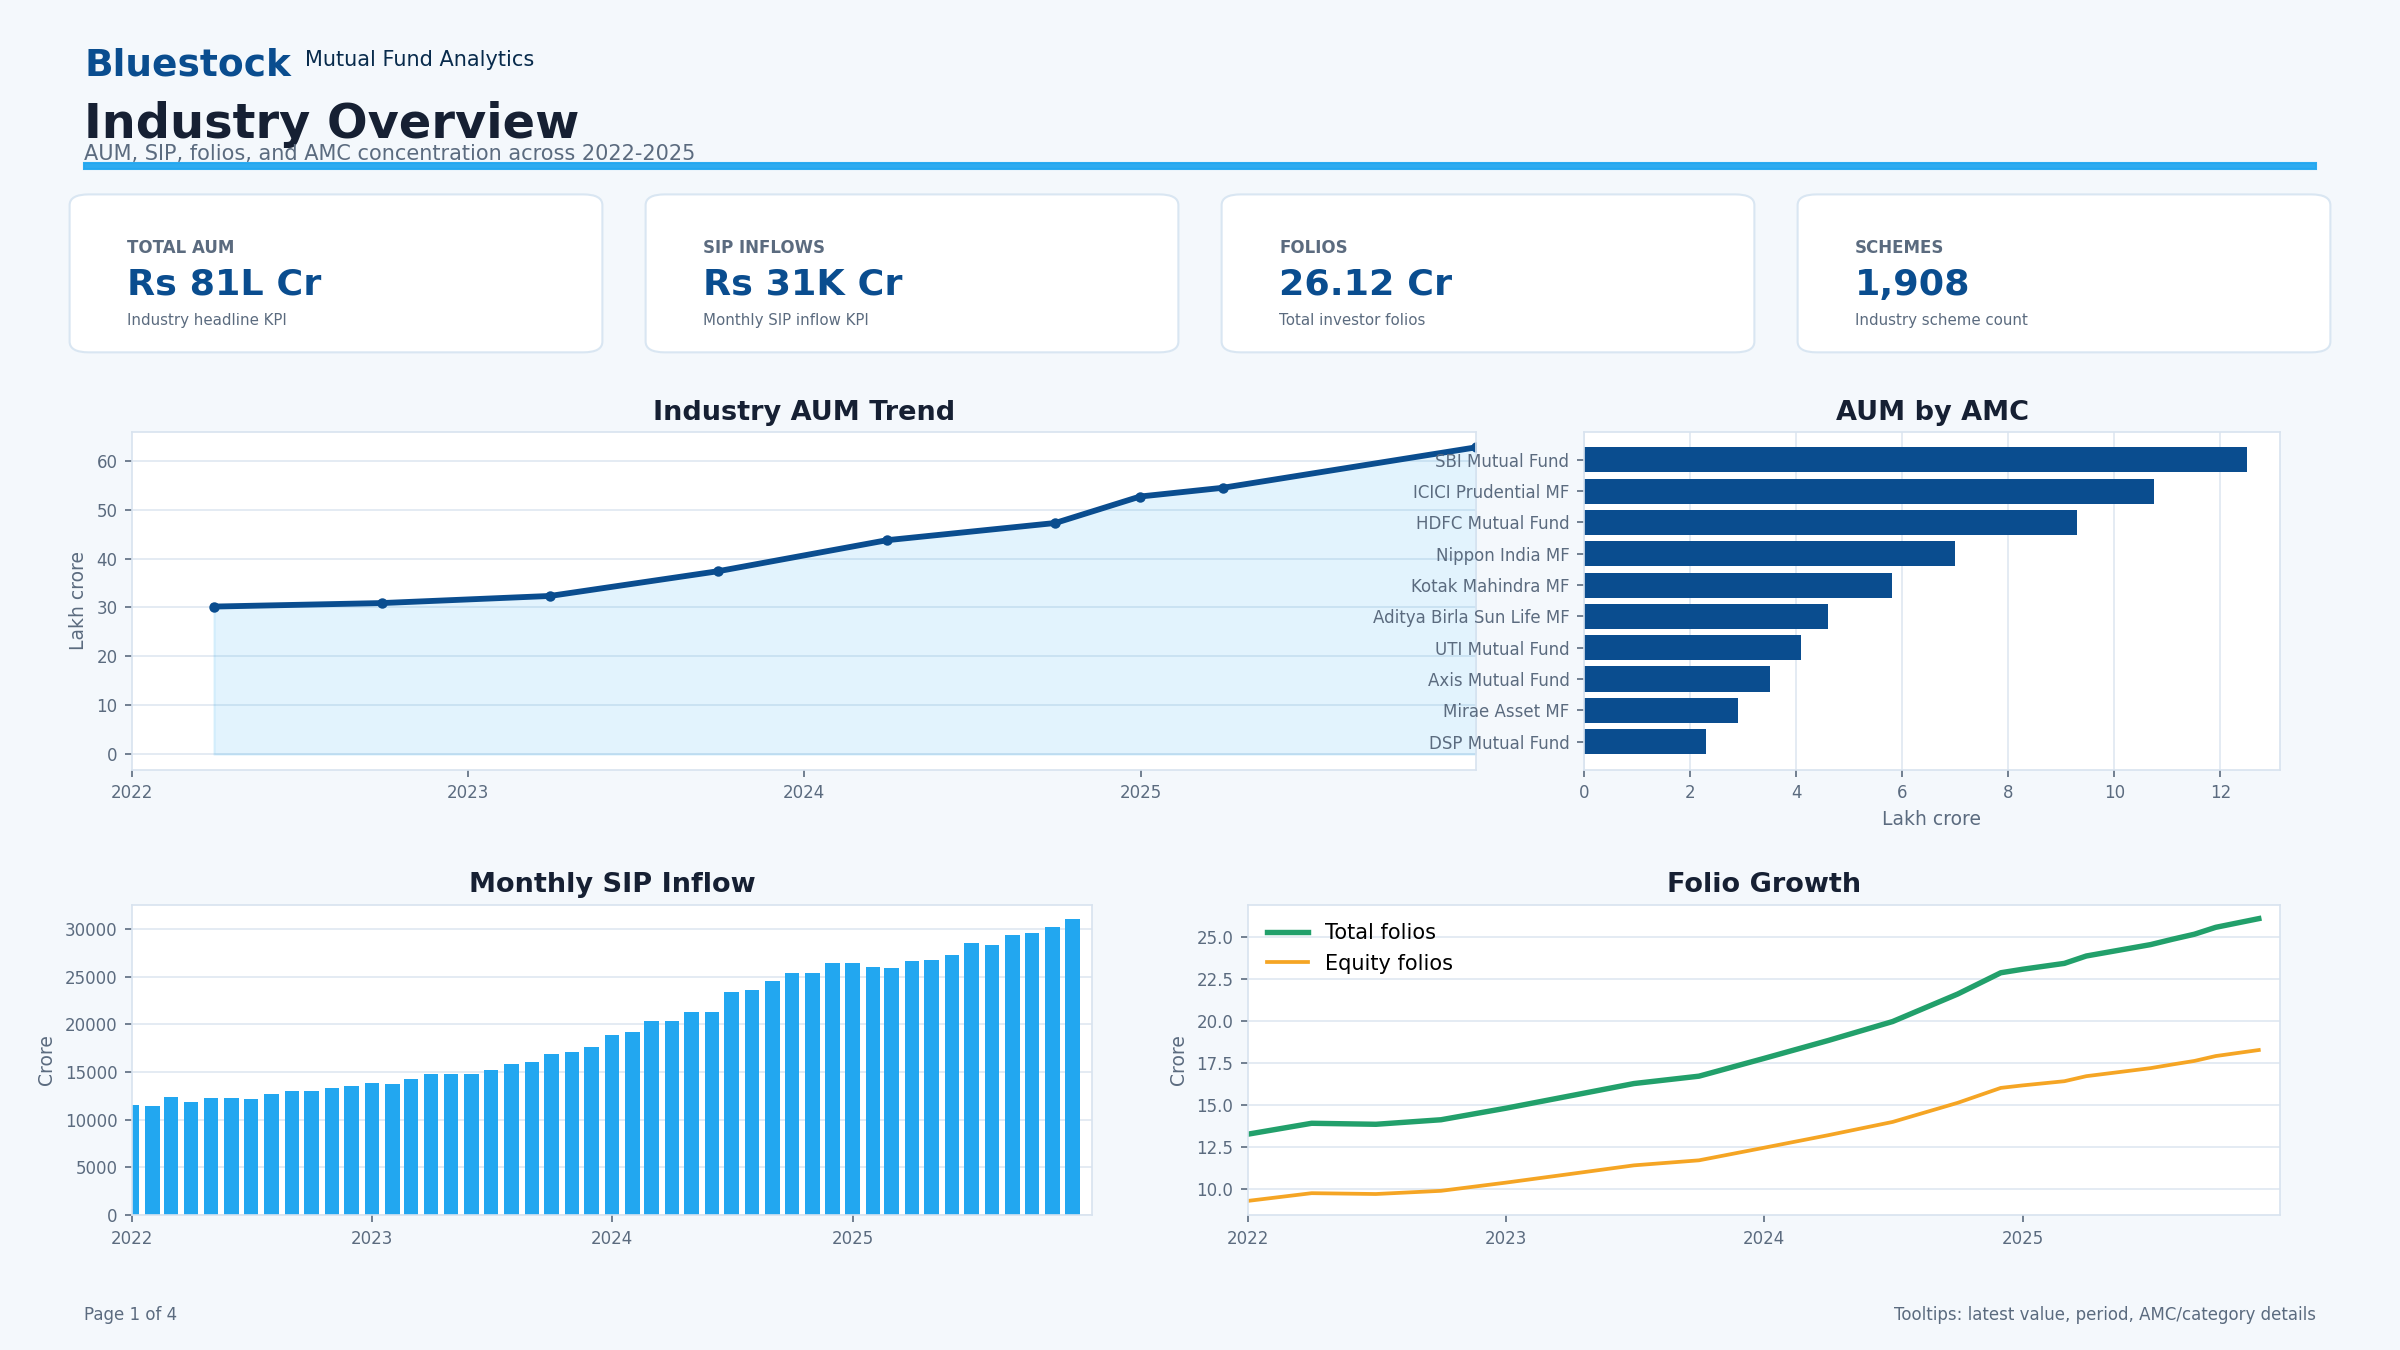

This screenshot's page, from the dashboard's own definition file:
{"tool":"powerbi","page":{"name":"Industry Overview","canvas":[1280,720],"ordinal":0},"visuals":[{"type":"card","fields":{"Values":["AUM.Total AUM"]},"box":[0,89.2,340.3,108.4],"z":0},{"type":"card","fields":{"Values":["AUM.Total SIP"]},"box":[340.3,89.2,299.1,108.4],"z":1000},{"type":"card","fields":{"Values":["AUM.Total Folios"]},"box":[639.5,89.2,321.1,108.4],"z":2000},{"type":"lineChart","title":"Industry AUM Growth (2022–2025)","fields":{"Category":["AUM.date.Variation.Date Hierarchy.Year"],"Y":["AUM.Total AUM"]},"box":[0,214.7,639.7,505.9],"z":3000},{"type":"clusteredBarChart","fields":{"Category":["AUM.fund_house"],"Y":["AUM.Total AUM"]},"box":[639.7,214.7,641.2,505.9],"z":4000},{"type":"textbox","box":[142.7,0,1060.7,89.2],"z":5000},{"type":"card","fields":{"Values":["AUM.Total Schemes"]},"box":[960.3,89.7,320.6,108.8],"z":6000}]}

Visuals, with their boxes in screenshot pixels (x1, y1, x2, y2), scaled from the page's 1280x720 canvas onto the 2400x1350 screenshot:
card - AUM.Total AUM: 0:167:638:371
card - AUM.Total SIP: 638:167:1199:371
card - AUM.Total Folios: 1199:167:1801:371
"Industry AUM Growth (2022–2025)" lineChart: 0:403:1199:1349
clusteredBarChart - AUM.fund_house x AUM.Total AUM: 1199:403:2399:1349
textbox: 268:0:2256:167
card - AUM.Total Schemes: 1801:168:2399:372
